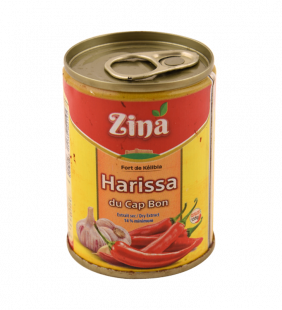ZINA: (56, 26, 222, 284)
